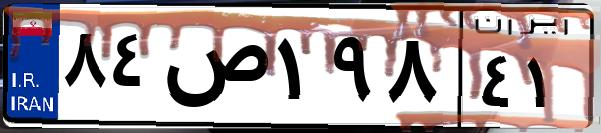1: (270, 28, 330, 110), (525, 38, 570, 115)
4: (475, 38, 525, 113), (110, 28, 158, 98)
8: (385, 28, 445, 110), (57, 26, 110, 100)
9: (330, 28, 385, 110)
ص: (158, 20, 270, 120)
